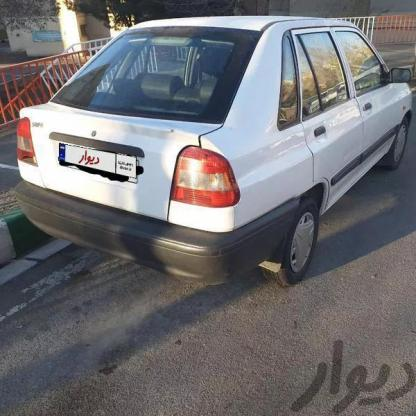Car: (0, 0, 416, 302)
